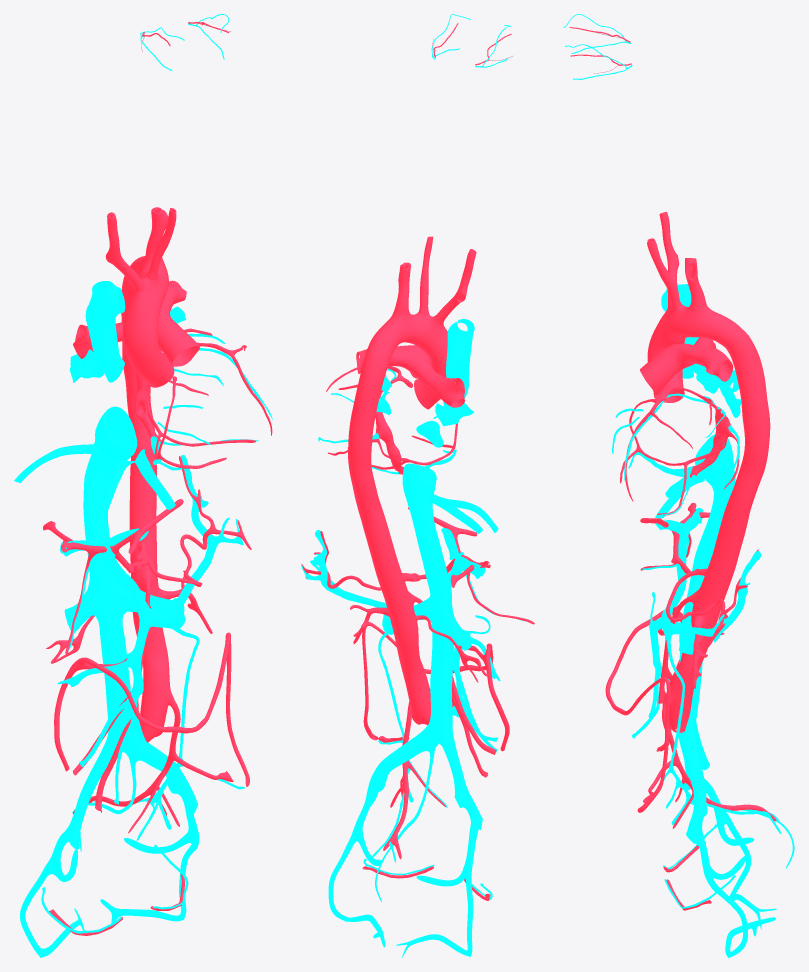
The model's file is gefaesse-female.glb.
The picture shows the model from 3 angles, left to right: view 1: azimuth 30°, elevation 25°; view 2: azimuth 150°, elevation 25°; view 3: azimuth 270°, elevation 25°; orthographic projection. The views are drawn at different scales.
Parts seen in each view (by area): view 1: 0:67:VH_F_inferior_vena_cava_b, 0:29:VH_F_descending_aorta_b, 0:69:VH_F_superior_vena_cava, 0:86:VH_F_marginal_artery_of_Drummond, 0:25:VH_F_ascending_aorta, 0:66:VH_F_inferior_vena_cava_a, 0:144:VH_F_splenic_vein, 0:24:VH_F_aortic_arch, 0:96:VH_F_left_common_iliac_vein, 0:47:VH_F_pulmonary_trunk, 0:97:VH_F_right_common_iliac_vein, 0:28:VH_F_descending_aorta_a (+15 smaller); view 2: 0:29:VH_F_descending_aorta_b, 0:67:VH_F_inferior_vena_cava_b, 0:28:VH_F_descending_aorta_a, 0:24:VH_F_aortic_arch, 0:66:VH_F_inferior_vena_cava_a, 0:69:VH_F_superior_vena_cava, 0:96:VH_F_left_common_iliac_vein, 0:86:VH_F_marginal_artery_of_Drummond, 0:46:VH_F_pulmonary_artery_R, 0:97:VH_F_right_common_iliac_vein, 0:144:VH_F_splenic_vein, 0:25:VH_F_ascending_aorta (+6 smaller); view 3: 0:29:VH_F_descending_aorta_b, 0:28:VH_F_descending_aorta_a, 0:24:VH_F_aortic_arch, 0:67:VH_F_inferior_vena_cava_b, 0:96:VH_F_left_common_iliac_vein, 0:86:VH_F_marginal_artery_of_Drummond, 0:144:VH_F_splenic_vein, 0:45:VH_F_pulmonary_artery_L, 0:66:VH_F_inferior_vena_cava_a, 0:47:VH_F_pulmonary_trunk, 0:25:VH_F_ascending_aorta, 0:142:VH_F_splenic_artery (+11 smaller).
Boxes of the visible parts, box(x1,y1,x2,y2) form: 0:67:VH_F_inferior_vena_cava_b: box(83, 463, 136, 752); 0:29:VH_F_descending_aorta_b: box(129, 443, 170, 742); 0:69:VH_F_superior_vena_cava: box(85, 281, 125, 382); 0:86:VH_F_marginal_artery_of_Drummond: box(54, 632, 249, 786); 0:25:VH_F_ascending_aorta: box(122, 312, 174, 387); 0:66:VH_F_inferior_vena_cava_a: box(88, 406, 137, 476); 0:144:VH_F_splenic_vein: box(140, 455, 243, 629); 0:24:VH_F_aortic_arch: box(125, 256, 168, 315); 0:96:VH_F_left_common_iliac_vein: box(125, 733, 197, 815); 0:47:VH_F_pulmonary_trunk: box(158, 309, 199, 366); 0:97:VH_F_right_common_iliac_vein: box(65, 736, 116, 849); 0:28:VH_F_descending_aorta_a: box(121, 276, 154, 444); 0:29:VH_F_descending_aorta_b: box(359, 503, 430, 725); 0:67:VH_F_inferior_vena_cava_b: box(412, 516, 454, 745); 0:28:VH_F_descending_aorta_a: box(348, 347, 389, 514); 0:24:VH_F_aortic_arch: box(368, 312, 447, 360); 0:66:VH_F_inferior_vena_cava_a: box(402, 463, 436, 517); 0:69:VH_F_superior_vena_cava: box(443, 319, 474, 406); 0:96:VH_F_left_common_iliac_vein: box(364, 724, 434, 805); 0:86:VH_F_marginal_artery_of_Drummond: box(362, 621, 509, 751); 0:46:VH_F_pulmonary_artery_R: box(413, 357, 464, 407); 0:97:VH_F_right_common_iliac_vein: box(441, 729, 482, 829); 0:144:VH_F_splenic_vein: box(301, 530, 386, 607); 0:25:VH_F_ascending_aorta: box(414, 347, 447, 409); 0:29:VH_F_descending_aorta_b: box(668, 497, 751, 732); 0:28:VH_F_descending_aorta_a: box(724, 332, 770, 509); 0:24:VH_F_aortic_arch: box(657, 304, 744, 346); 0:67:VH_F_inferior_vena_cava_b: box(679, 479, 735, 725); 0:96:VH_F_left_common_iliac_vein: box(678, 718, 707, 843); 0:86:VH_F_marginal_artery_of_Drummond: box(605, 610, 682, 812); 0:144:VH_F_splenic_vein: box(660, 551, 761, 642); 0:45:VH_F_pulmonary_artery_L: box(676, 343, 733, 381); 0:66:VH_F_inferior_vena_cava_a: box(695, 434, 735, 492); 0:47:VH_F_pulmonary_trunk: box(640, 343, 694, 394); 0:25:VH_F_ascending_aorta: box(647, 324, 685, 402); 0:142:VH_F_splenic_artery: box(666, 549, 758, 647).
Bounding box in the file's own units: 0.1927 × 0.799 × 0.1848.
